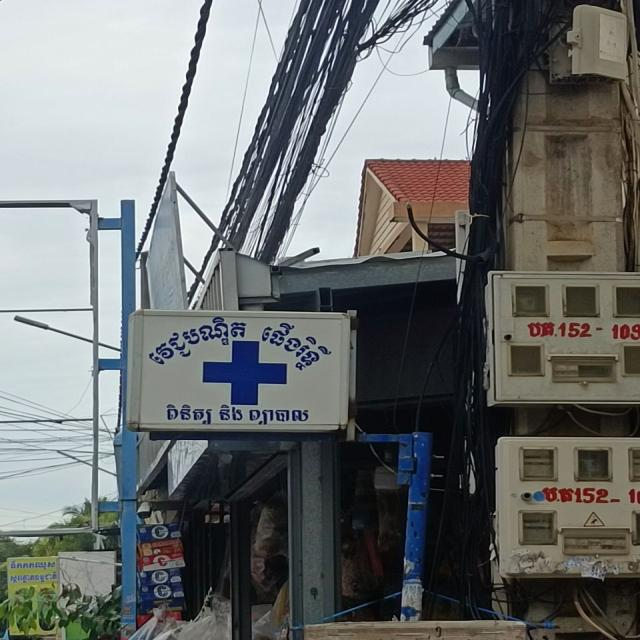Yolov11kh: (133, 304, 358, 375), (160, 398, 325, 427)
